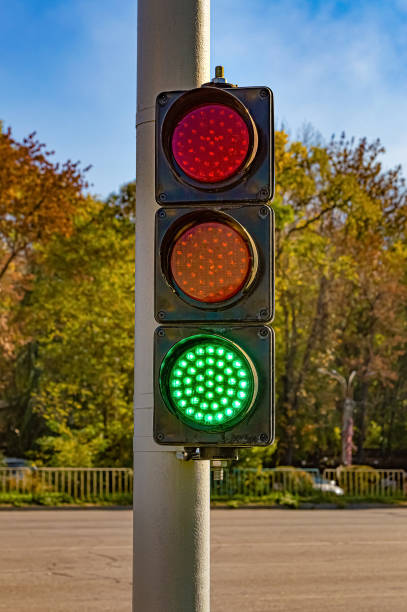trafficlight: (151, 72, 283, 477)
